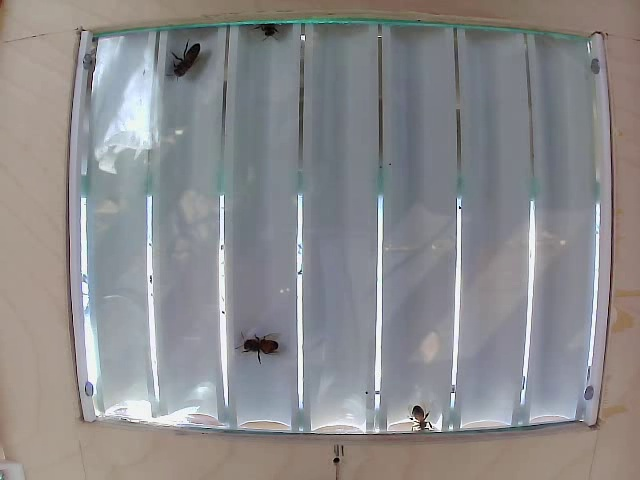bee: (238, 325, 282, 366), (397, 389, 433, 432), (168, 47, 211, 82)
